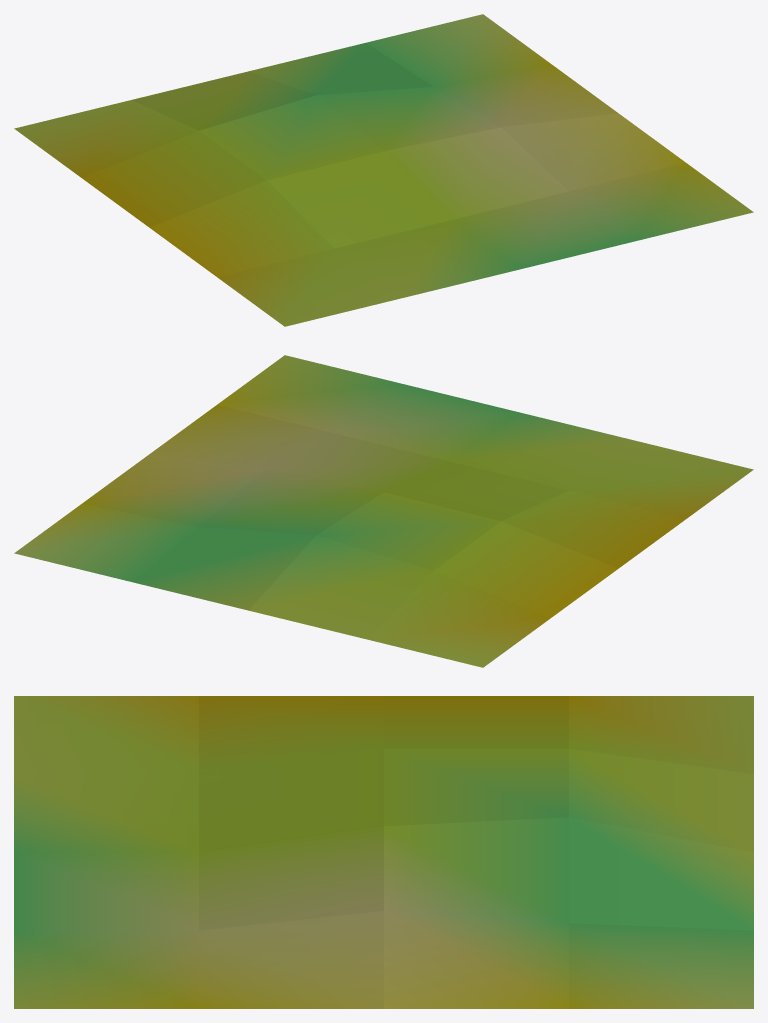
Rendered from tile_2.fbx.
3 views of the same model, one above another, from view 1: azimuth 30°, elevation 25°; view 2: azimuth 150°, elevation 25°; view 3: azimuth 270°, elevation 25° (orthographic). The views are drawn at different scales.
Visible parts, largest first — view 1: Cube.483; view 2: Cube.483; view 3: Cube.483.
Part boxes in pixels (left/top/right/bottom): Cube.483: left=14, top=14, right=753, bottom=326; Cube.483: left=14, top=355, right=753, bottom=667; Cube.483: left=14, top=696, right=753, bottom=1008.
Size of the model in its own units: 400 by 20.95 by 400.
